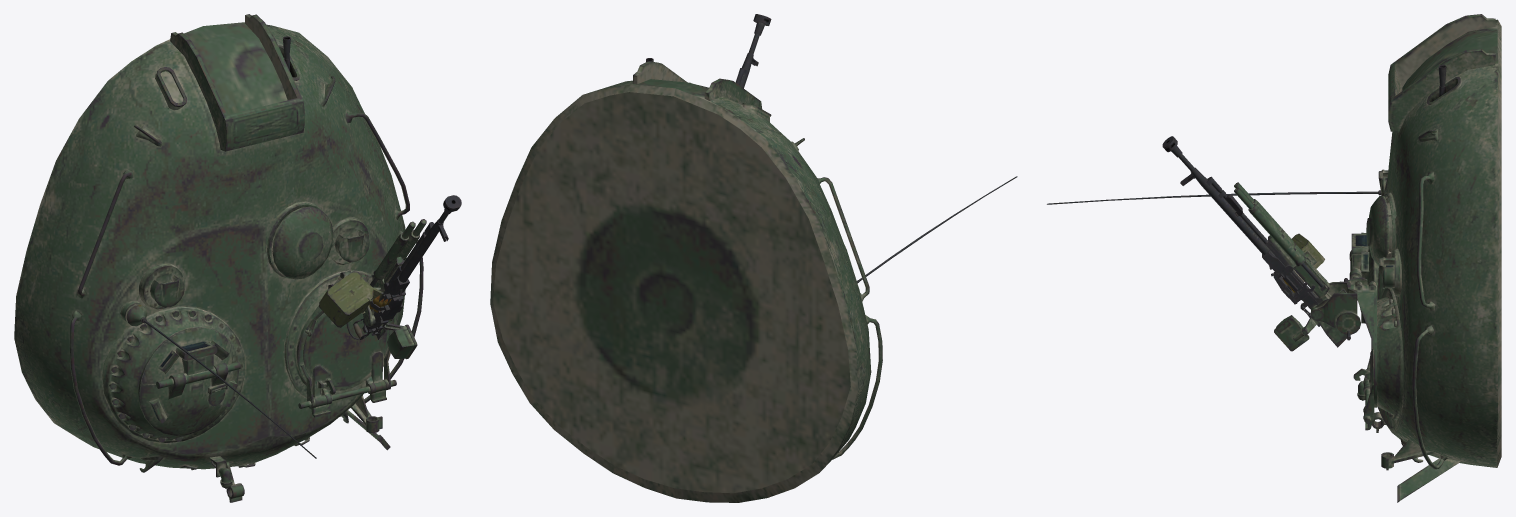
The model's file is Turret_01.glb.
3 views of the same model, side by side, from view 1: azimuth 30°, elevation 25°; view 2: azimuth 150°, elevation 25°; view 3: azimuth 270°, elevation 25° (orthographic). The views are drawn at different scales.
Visible parts, largest first — view 1: set_0_group_0; view 2: set_0_group_0; view 3: set_0_group_0.
Boxes of the visible parts, <box> form: set_0_group_0: <box>14,14,461,502</box>; set_0_group_0: <box>490,14,1017,502</box>; set_0_group_0: <box>1047,14,1501,502</box>.
Bounding box in the file's own units: 2.57 × 2.78 × 2.76.
Materials: 1 (1 with a texture image).
